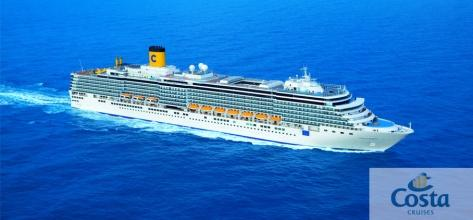youlun: (68, 39, 416, 152)
